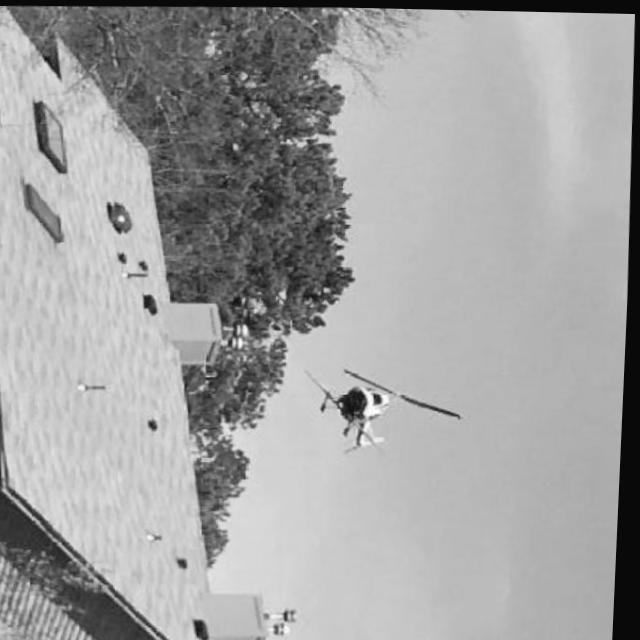helikopter: (301, 355, 478, 466)
